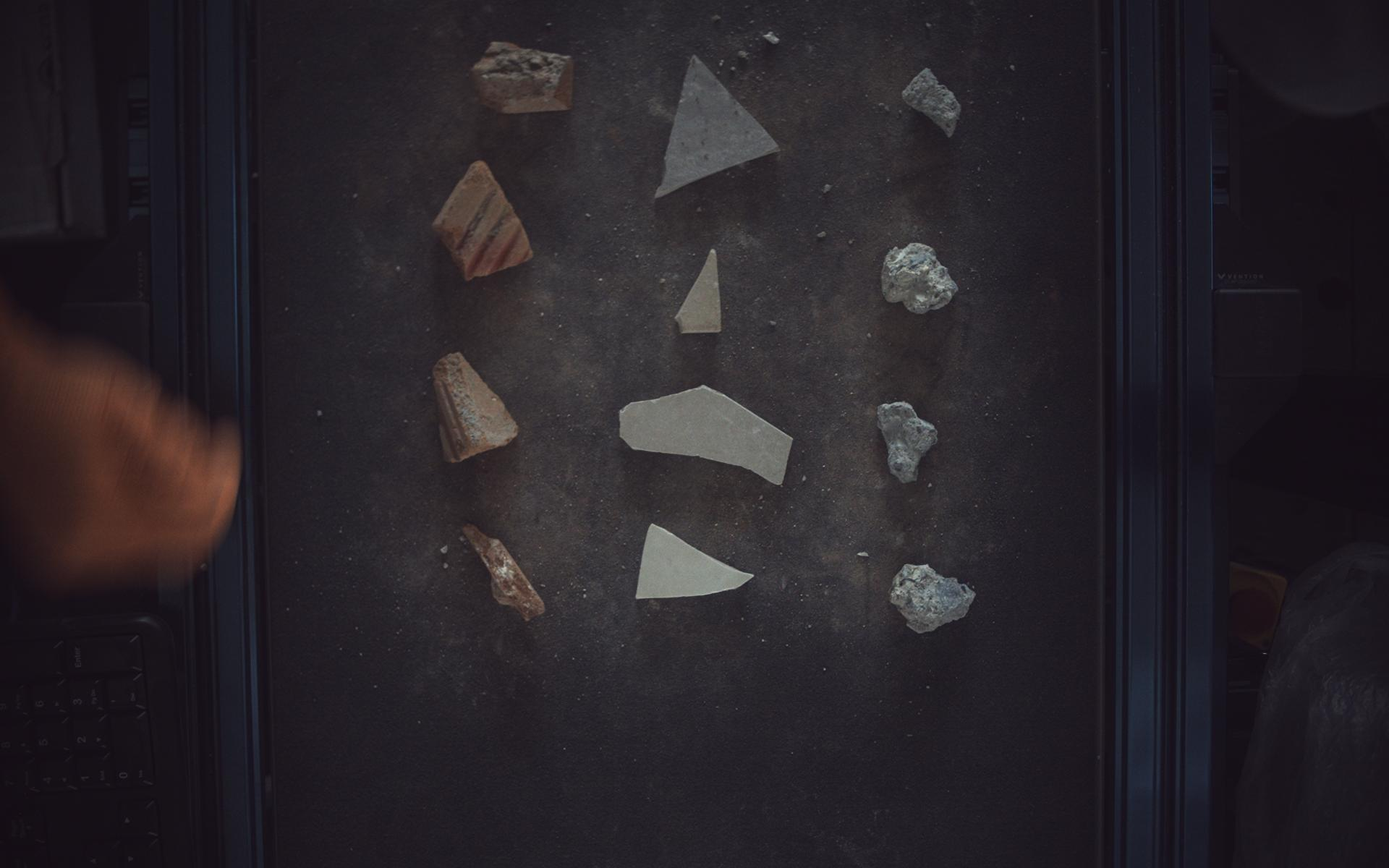brick: (433, 159, 533, 280), (433, 352, 519, 463), (462, 526, 545, 621), (472, 41, 574, 112)
concrete: (892, 564, 977, 634), (883, 242, 960, 314), (879, 401, 940, 484), (904, 67, 963, 136)
tile: (656, 55, 781, 197), (621, 386, 794, 485), (637, 524, 755, 600), (676, 248, 723, 333)
